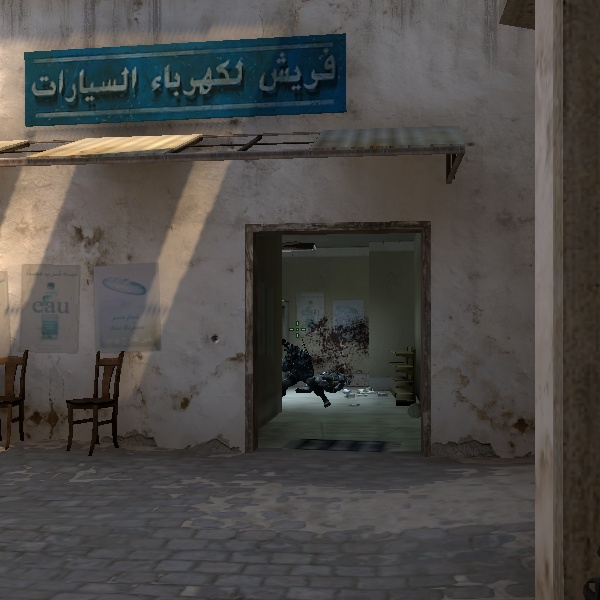ct_body: (279, 338, 319, 404)
